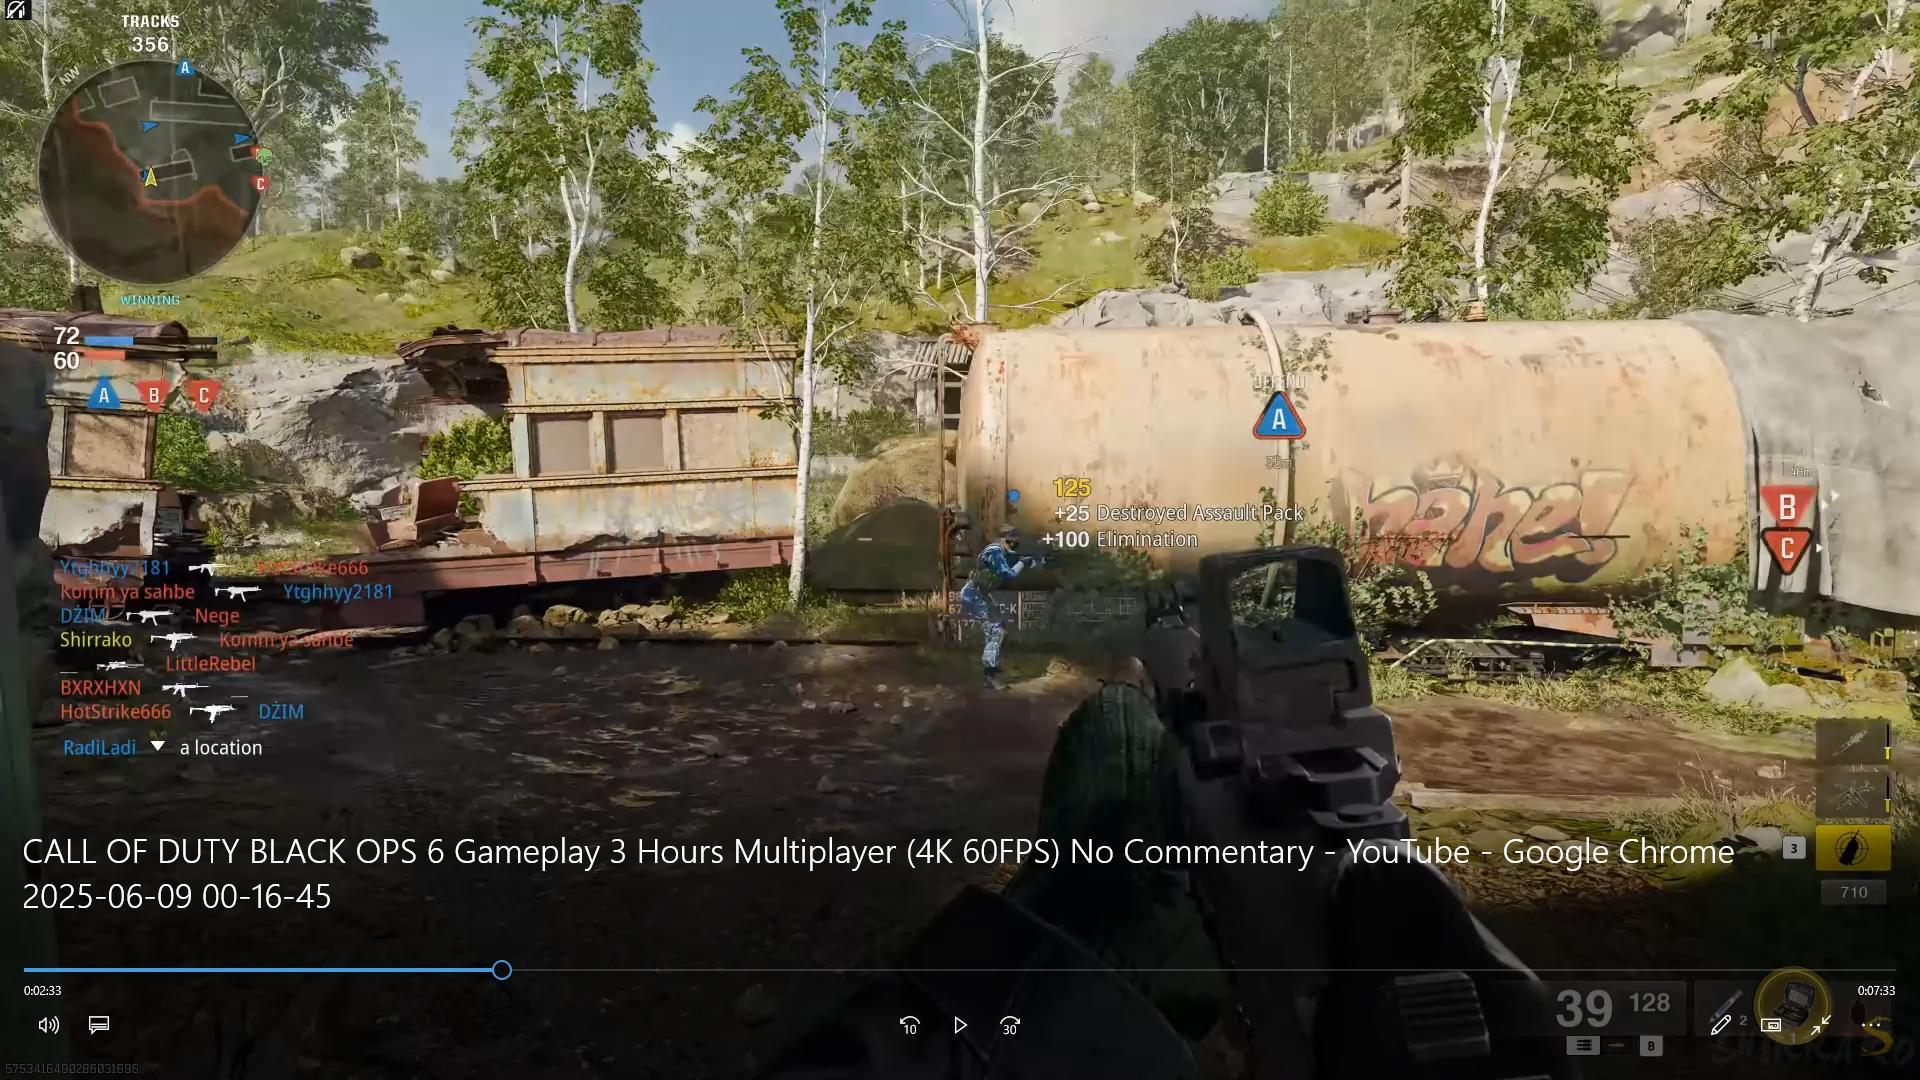Enemy: (947, 522, 1039, 678)
